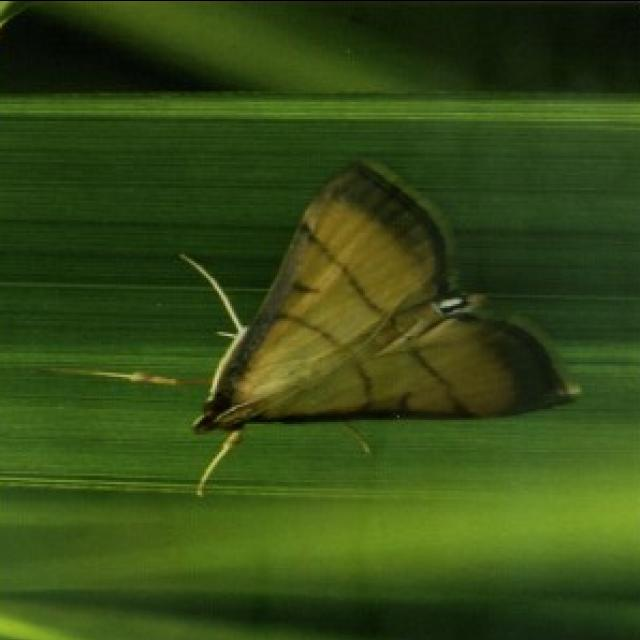rice leaf roller: (180, 161, 578, 492)
